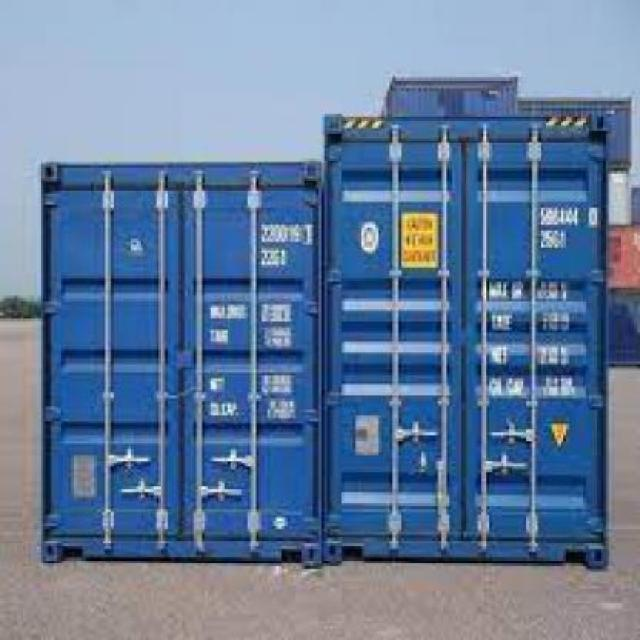ISO: (542, 230, 570, 252)
container_number: (534, 202, 602, 231)
